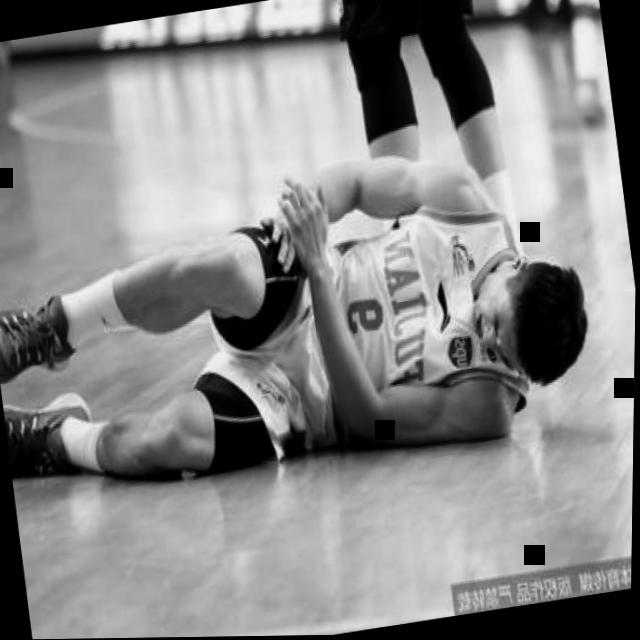Fall-Detected: (0, 97, 623, 531)
